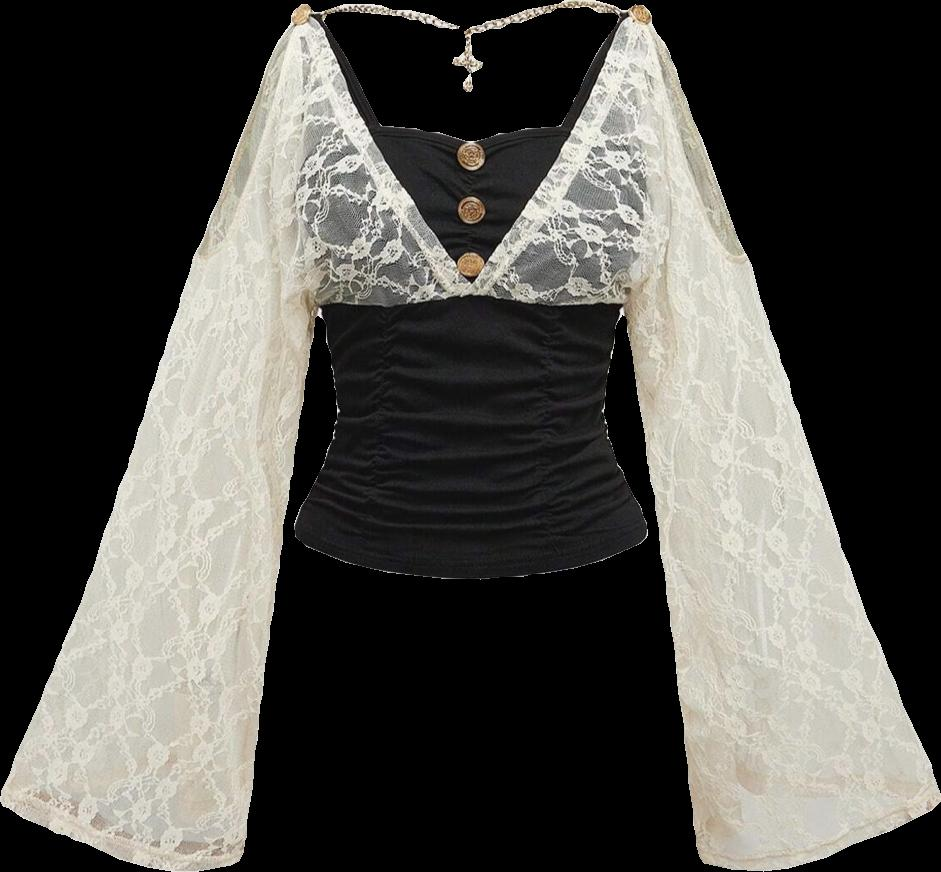Bodice: (293, 5, 655, 578)
Neckline: (308, 10, 636, 294), (307, 7, 636, 149), (310, 287, 627, 312)
Sleeve: (0, 10, 319, 871), (625, 21, 940, 869)
Sleeveline: (294, 12, 653, 181)
Waistline: (288, 524, 655, 587)
